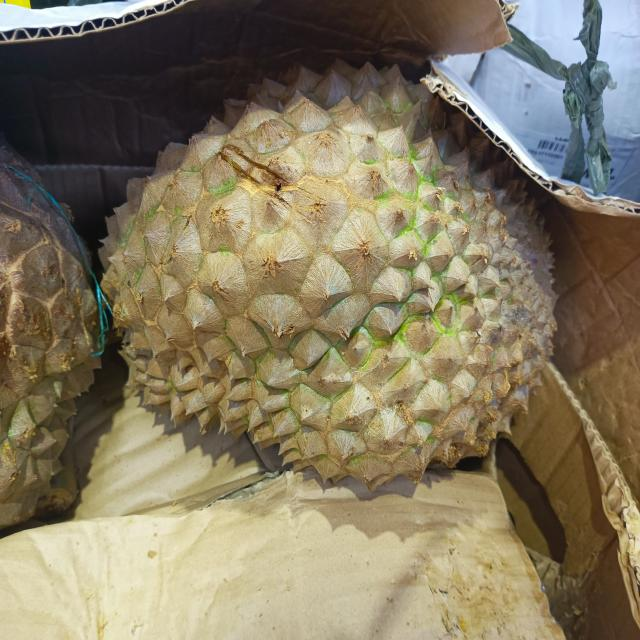mature: (103, 71, 559, 487)
